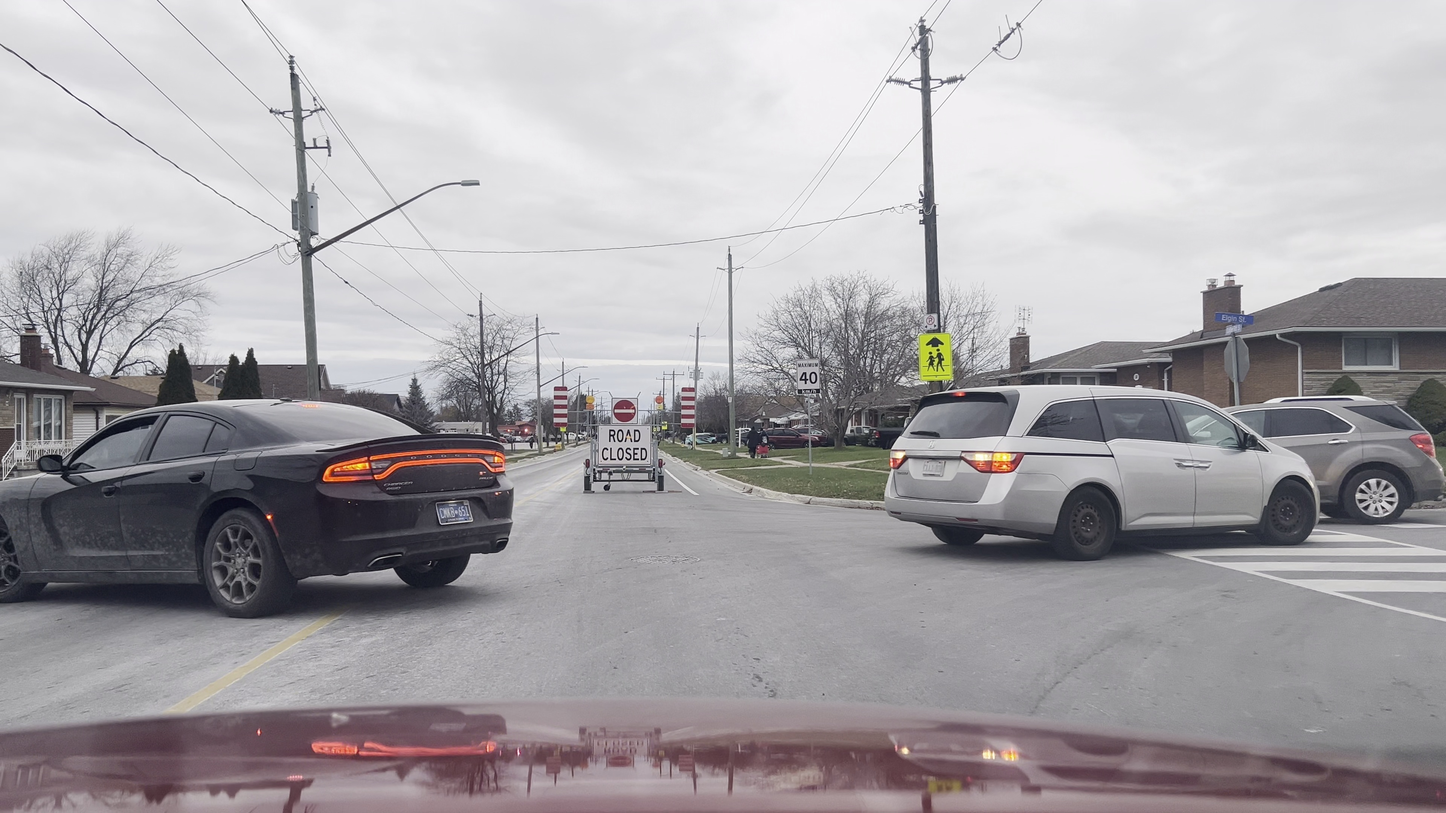construction: (542, 366, 707, 506)
